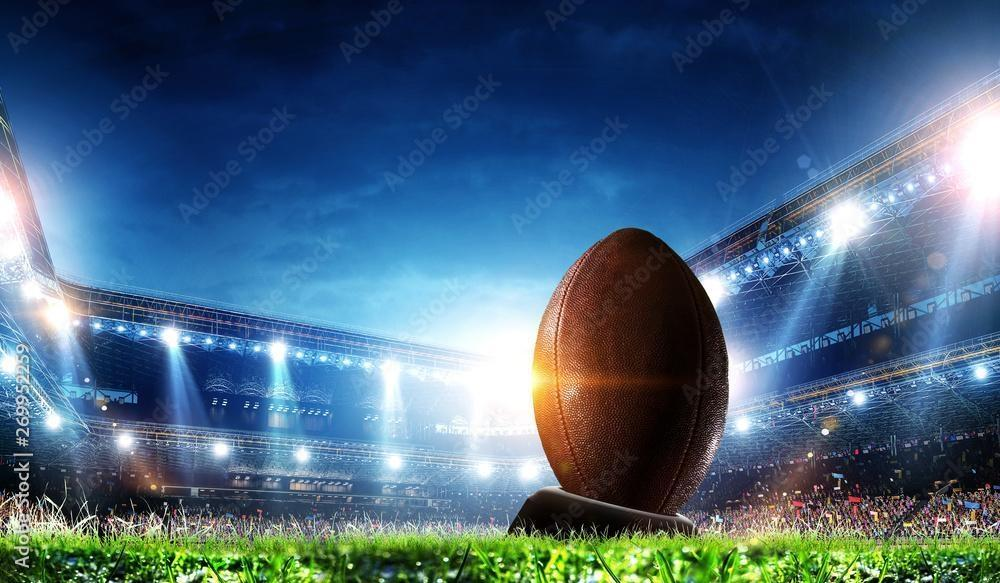Sports-Ball: (534, 229, 728, 518)
